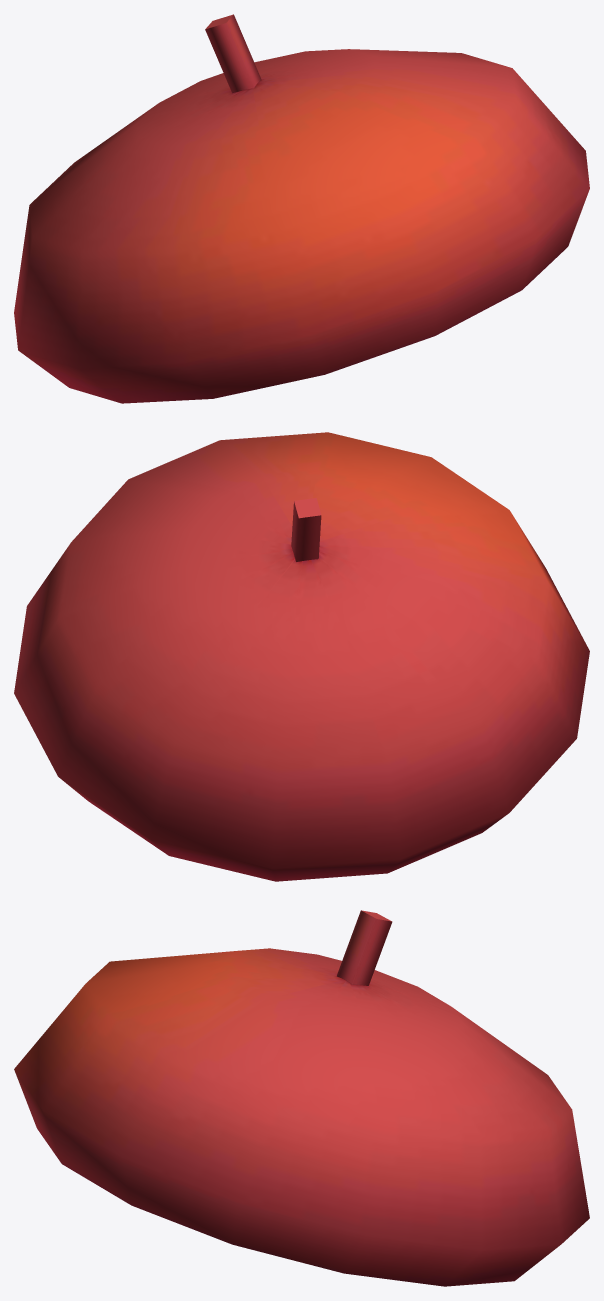
Rendered from helm0070.fbx.
The picture shows the model from 3 angles, top to bottom: view 1: azimuth 30°, elevation 25°; view 2: azimuth 150°, elevation 25°; view 3: azimuth 270°, elevation 25°; orthographic projection. The views are drawn at different scales.
Parts seen in each view (by area): view 1: helm0070_m; view 2: helm0070_m; view 3: helm0070_m.
Part boxes in pixels (x1,y1,x2,y2): helm0070_m: (14,14,589,403); helm0070_m: (14,432,589,881); helm0070_m: (14,910,589,1286).
Bounding box in the file's own units: 0.269 × 0.1691 × 0.2679.
Materials: 1 (1 with a texture image).
